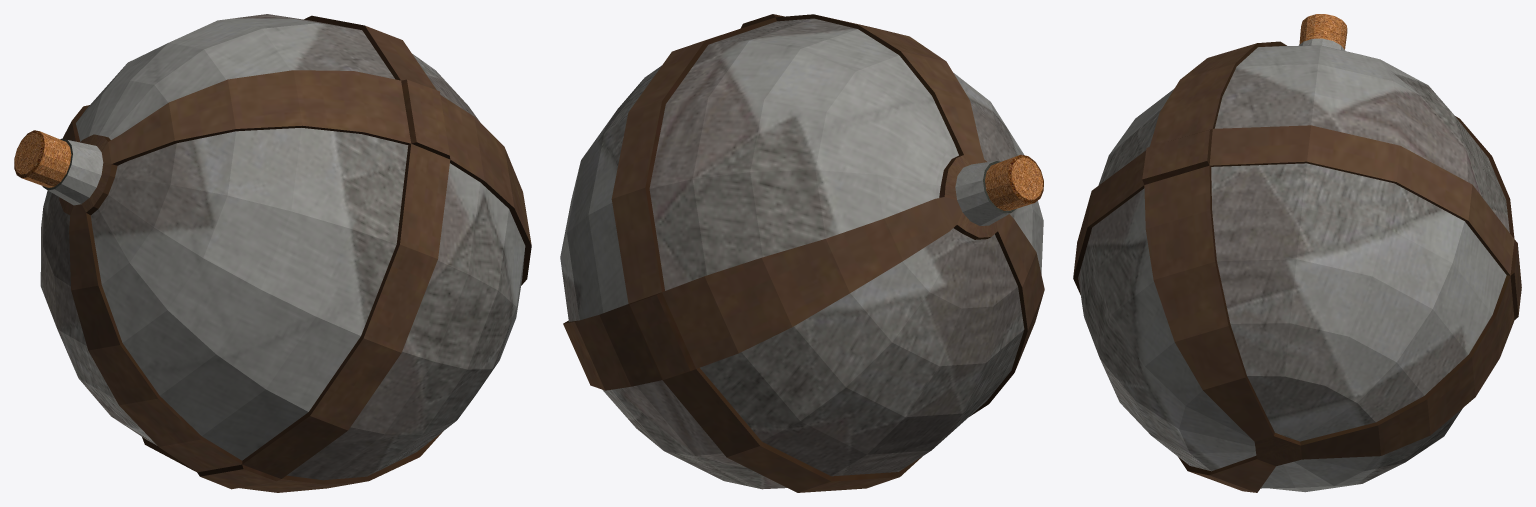
The model's file is LargeWaterskin.fbx.
3 views of the same model, side by side, from view 1: azimuth 30°, elevation 25°; view 2: azimuth 150°, elevation 25°; view 3: azimuth 270°, elevation 25° (orthographic). The views are drawn at different scales.
Visible parts, largest first — view 1: ZomboidLargeWaterskin; view 2: ZomboidLargeWaterskin; view 3: ZomboidLargeWaterskin.
Boxes of the visible parts, x1,y1,x2,y2 form: ZomboidLargeWaterskin: [14, 14, 531, 492]; ZomboidLargeWaterskin: [560, 14, 1044, 492]; ZomboidLargeWaterskin: [1073, 14, 1521, 492].
Bounding box in the file's own units: 0.183 × 0.1651 × 0.1672.
